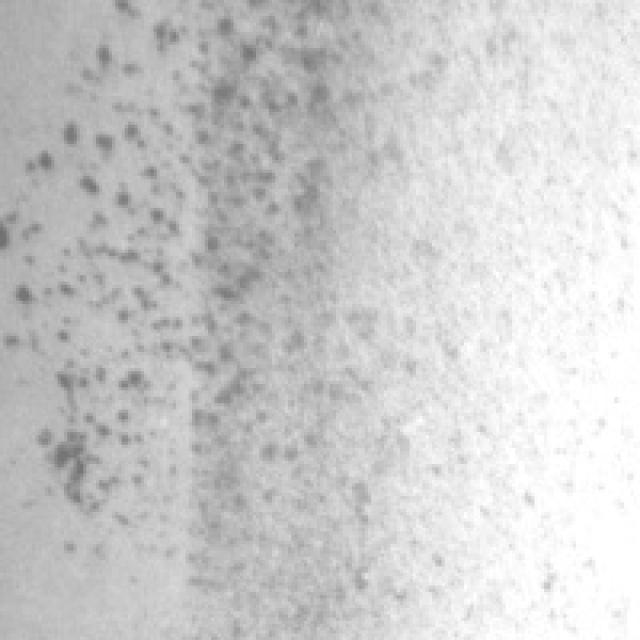pitted_surface: (0, 0, 461, 608)
